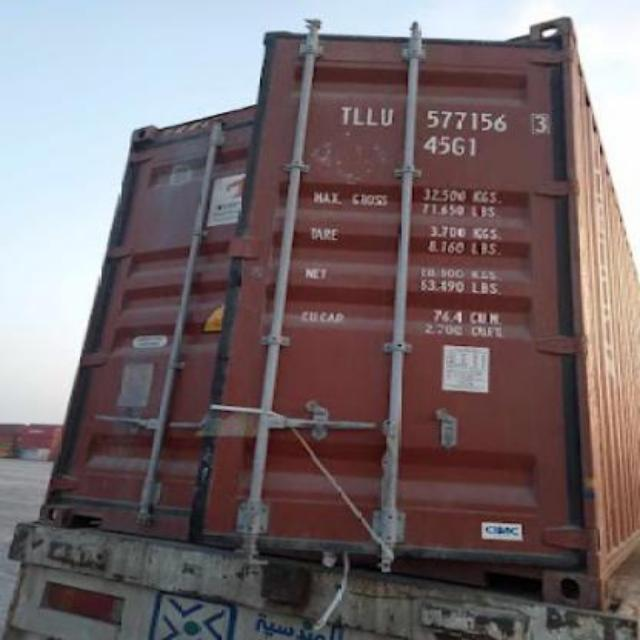1: (468, 108, 480, 136)
3: (530, 108, 550, 138)
5: (424, 105, 440, 131), (478, 108, 492, 134)
6: (494, 108, 508, 138)
7: (438, 105, 452, 134), (452, 108, 468, 132)
L: (350, 102, 366, 128), (366, 100, 379, 130)
T: (340, 102, 350, 128)
U: (380, 102, 396, 128)
